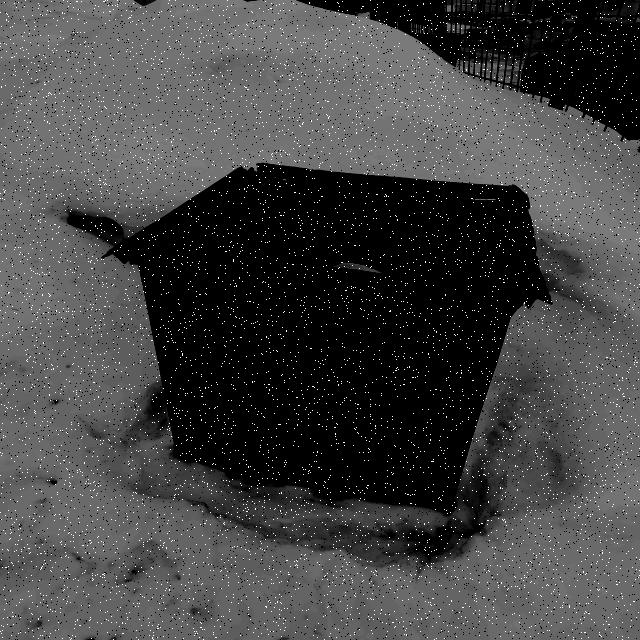Trashcan: (104, 110, 568, 530)
